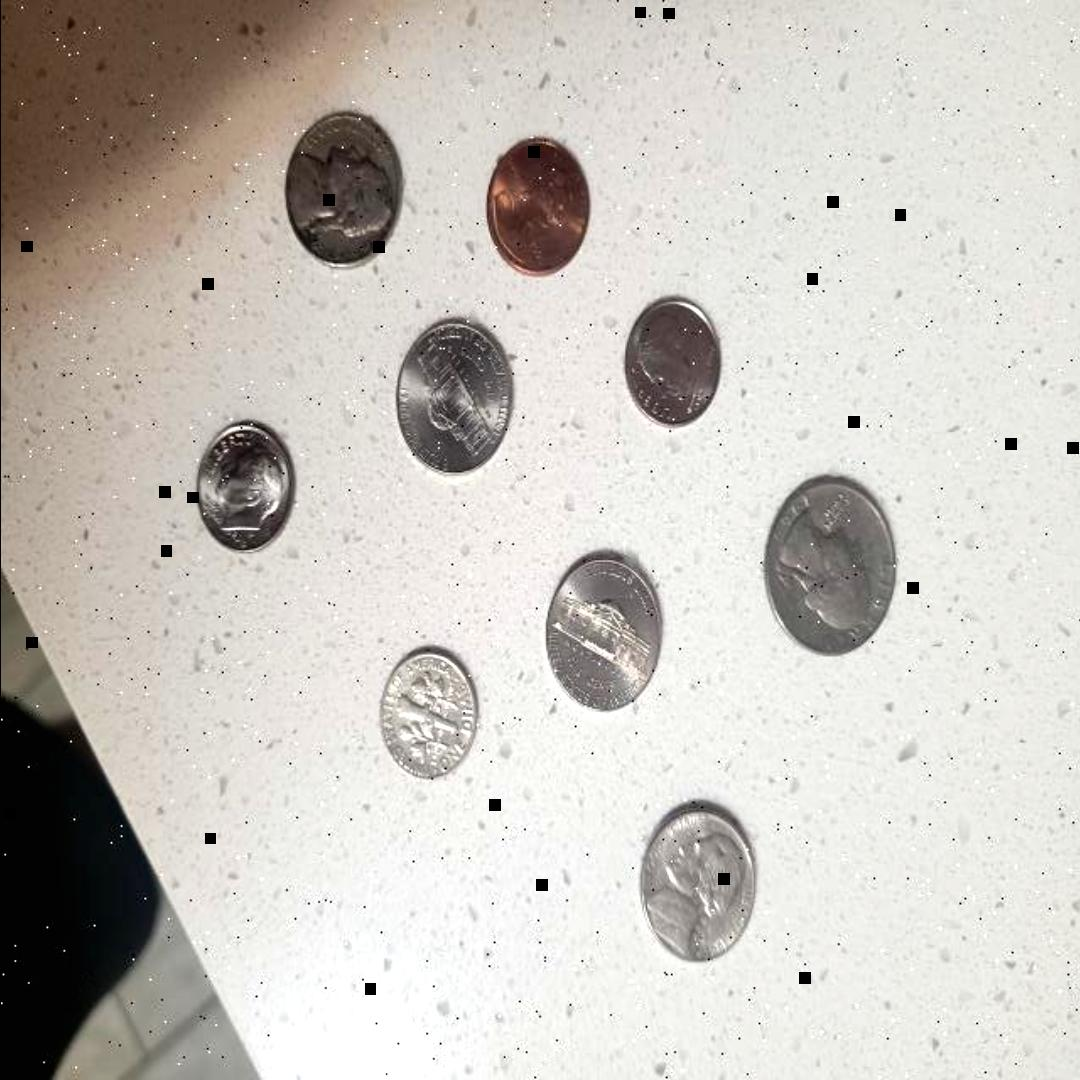Dime: (195, 413, 303, 553), (621, 294, 725, 434), (376, 648, 482, 783)
Nickel: (546, 539, 666, 719), (634, 800, 764, 966), (394, 317, 518, 479), (286, 109, 408, 269)
Penny: (485, 128, 589, 282)
Quarter: (763, 474, 903, 660)
